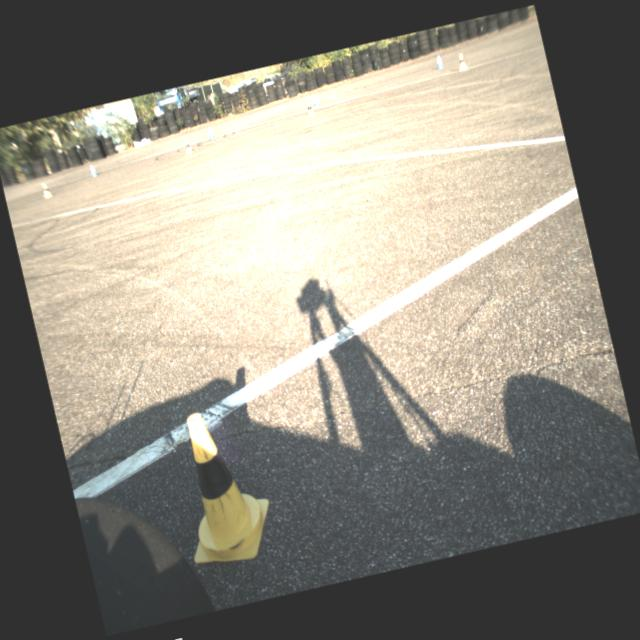blue_cone: (433, 54, 444, 70), (88, 162, 98, 177), (310, 92, 320, 107), (205, 126, 215, 140)
yellow_cone: (160, 400, 282, 574), (454, 51, 468, 71), (40, 180, 52, 198), (304, 100, 315, 116), (182, 138, 192, 154)
